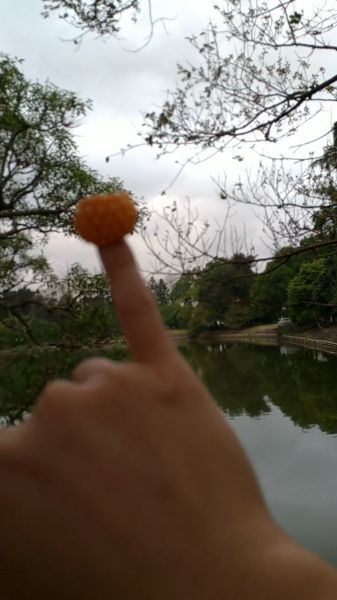eggs: (73, 192, 138, 247)
